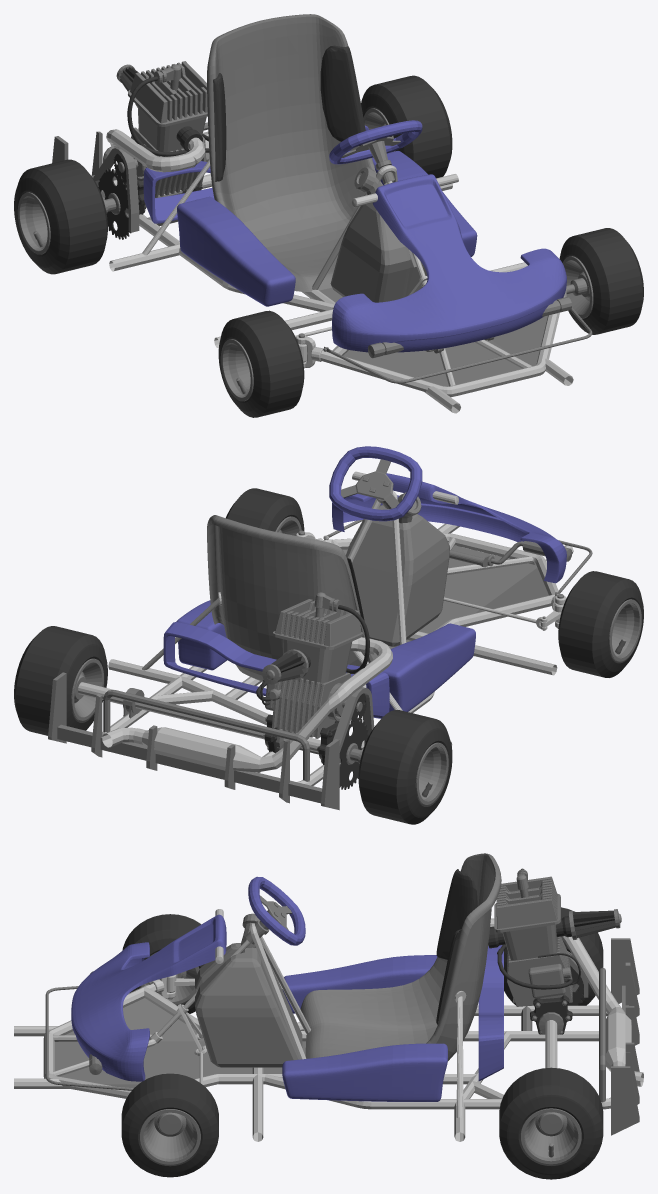
File: GoKart_Mesh.fbx
The picture shows the model from 3 angles, top to bottom: view 1: azimuth 30°, elevation 25°; view 2: azimuth 150°, elevation 25°; view 3: azimuth 270°, elevation 25°; orthographic projection. The views are drawn at different scales.
Visible parts, largest first — view 1: GoKart; view 2: GoKart; view 3: GoKart.
Boxes of the visible parts, x1,y1,x2,y2 form: GoKart: [14, 14, 643, 417]; GoKart: [14, 446, 643, 824]; GoKart: [14, 853, 643, 1179].
Bounding box in the file's own units: 247 × 133 × 352.
